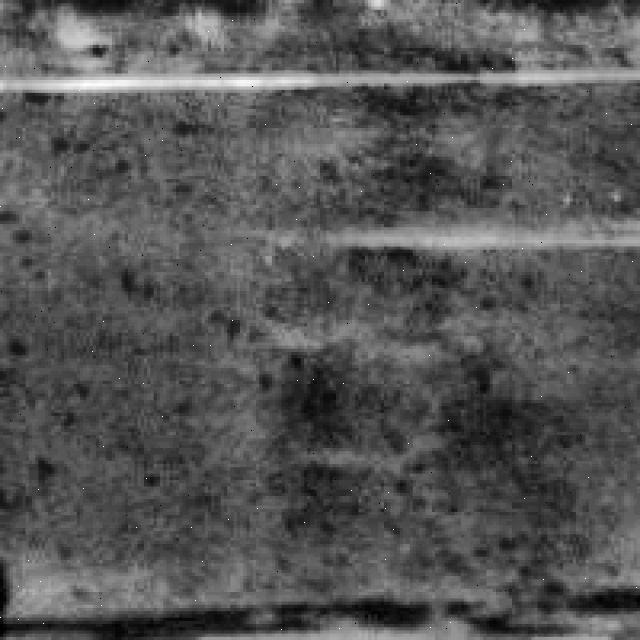Inclusion: (9, 54, 634, 96), (326, 221, 640, 256)
